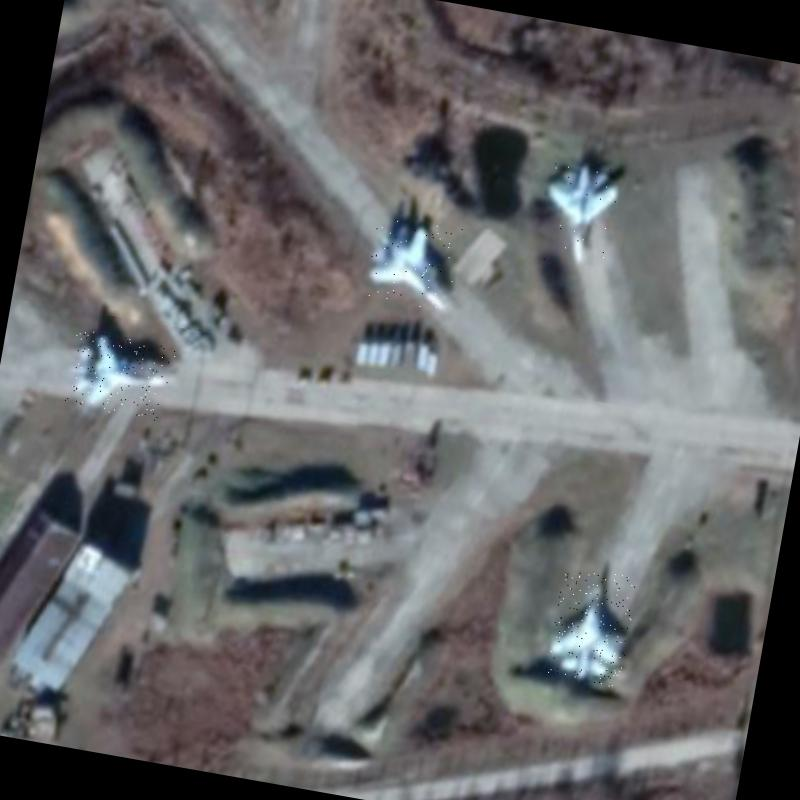A1: (544, 564, 640, 688), (534, 155, 626, 272), (64, 328, 177, 422), (364, 215, 462, 312)
